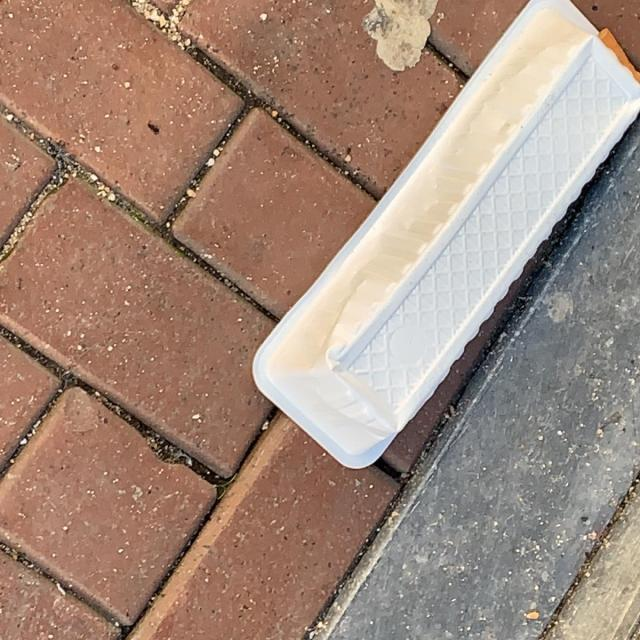Plastic: (245, 0, 639, 471)
